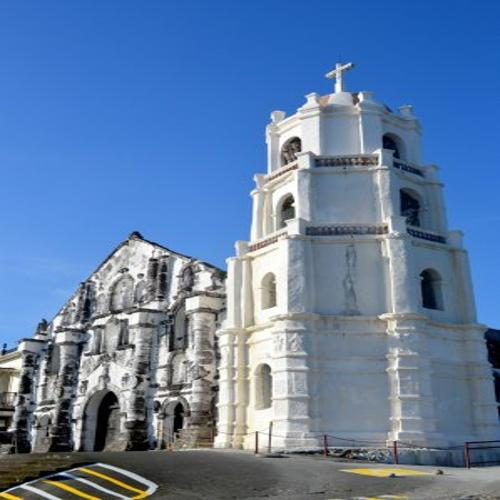Daraga Church: (21, 57, 500, 469)
